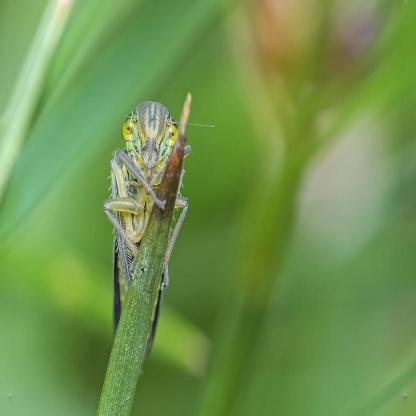Green-Leafhopper: (100, 99, 194, 347)
